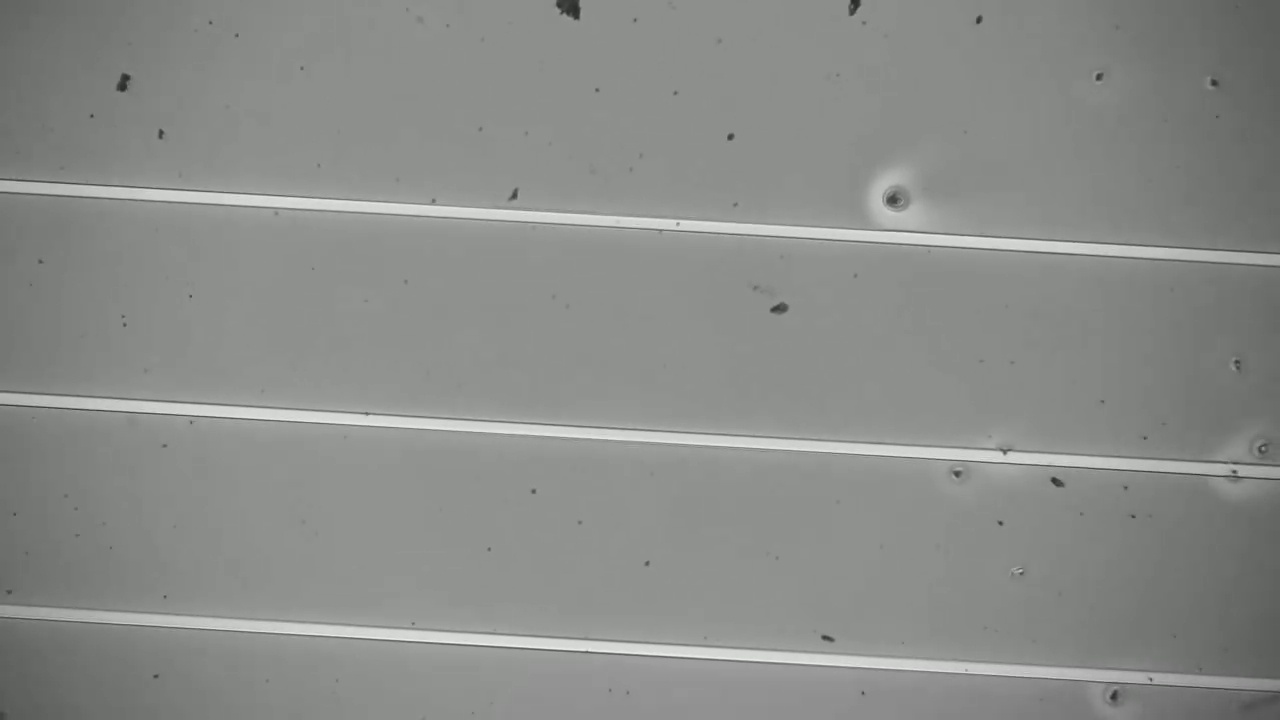stains_enbedded: (992, 441, 1020, 473)
